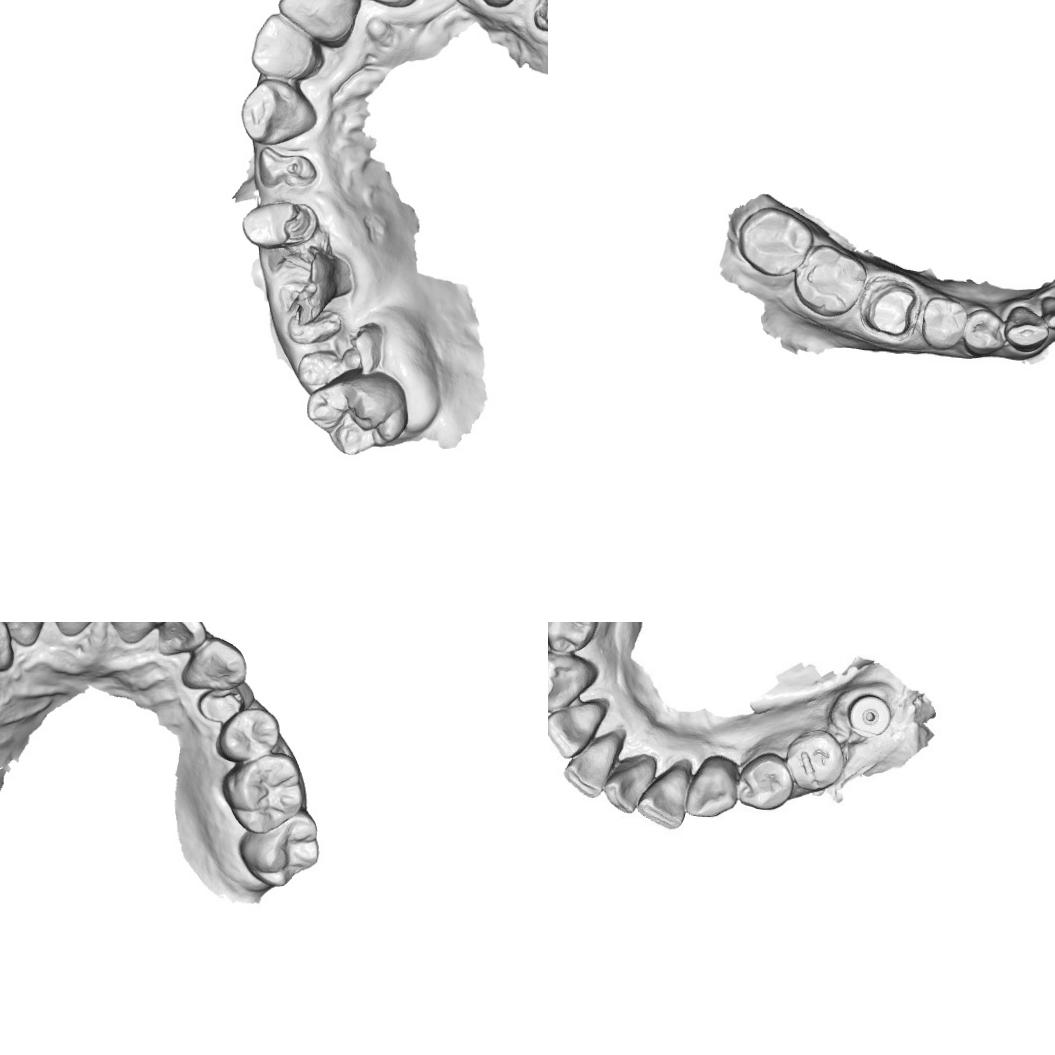canine: (234, 78, 318, 145), (178, 636, 248, 694), (688, 756, 742, 819), (548, 655, 601, 709), (1000, 304, 1050, 353), (0, 622, 19, 671)
crown: (860, 279, 920, 339)
implant: (848, 690, 892, 741)
incisor: (249, 11, 322, 79), (561, 729, 625, 793), (639, 760, 696, 828), (548, 696, 606, 760), (273, 0, 353, 42), (598, 758, 654, 810), (155, 622, 206, 656), (107, 622, 170, 646), (0, 622, 48, 646), (43, 622, 115, 637), (1039, 293, 1055, 332)
molar: (302, 368, 410, 458), (238, 810, 324, 890), (226, 754, 306, 833), (736, 204, 816, 280), (793, 242, 870, 318)
premolar: (214, 706, 282, 766), (780, 733, 843, 791), (736, 752, 794, 814), (920, 296, 968, 352), (962, 306, 1007, 358), (548, 622, 597, 649)
